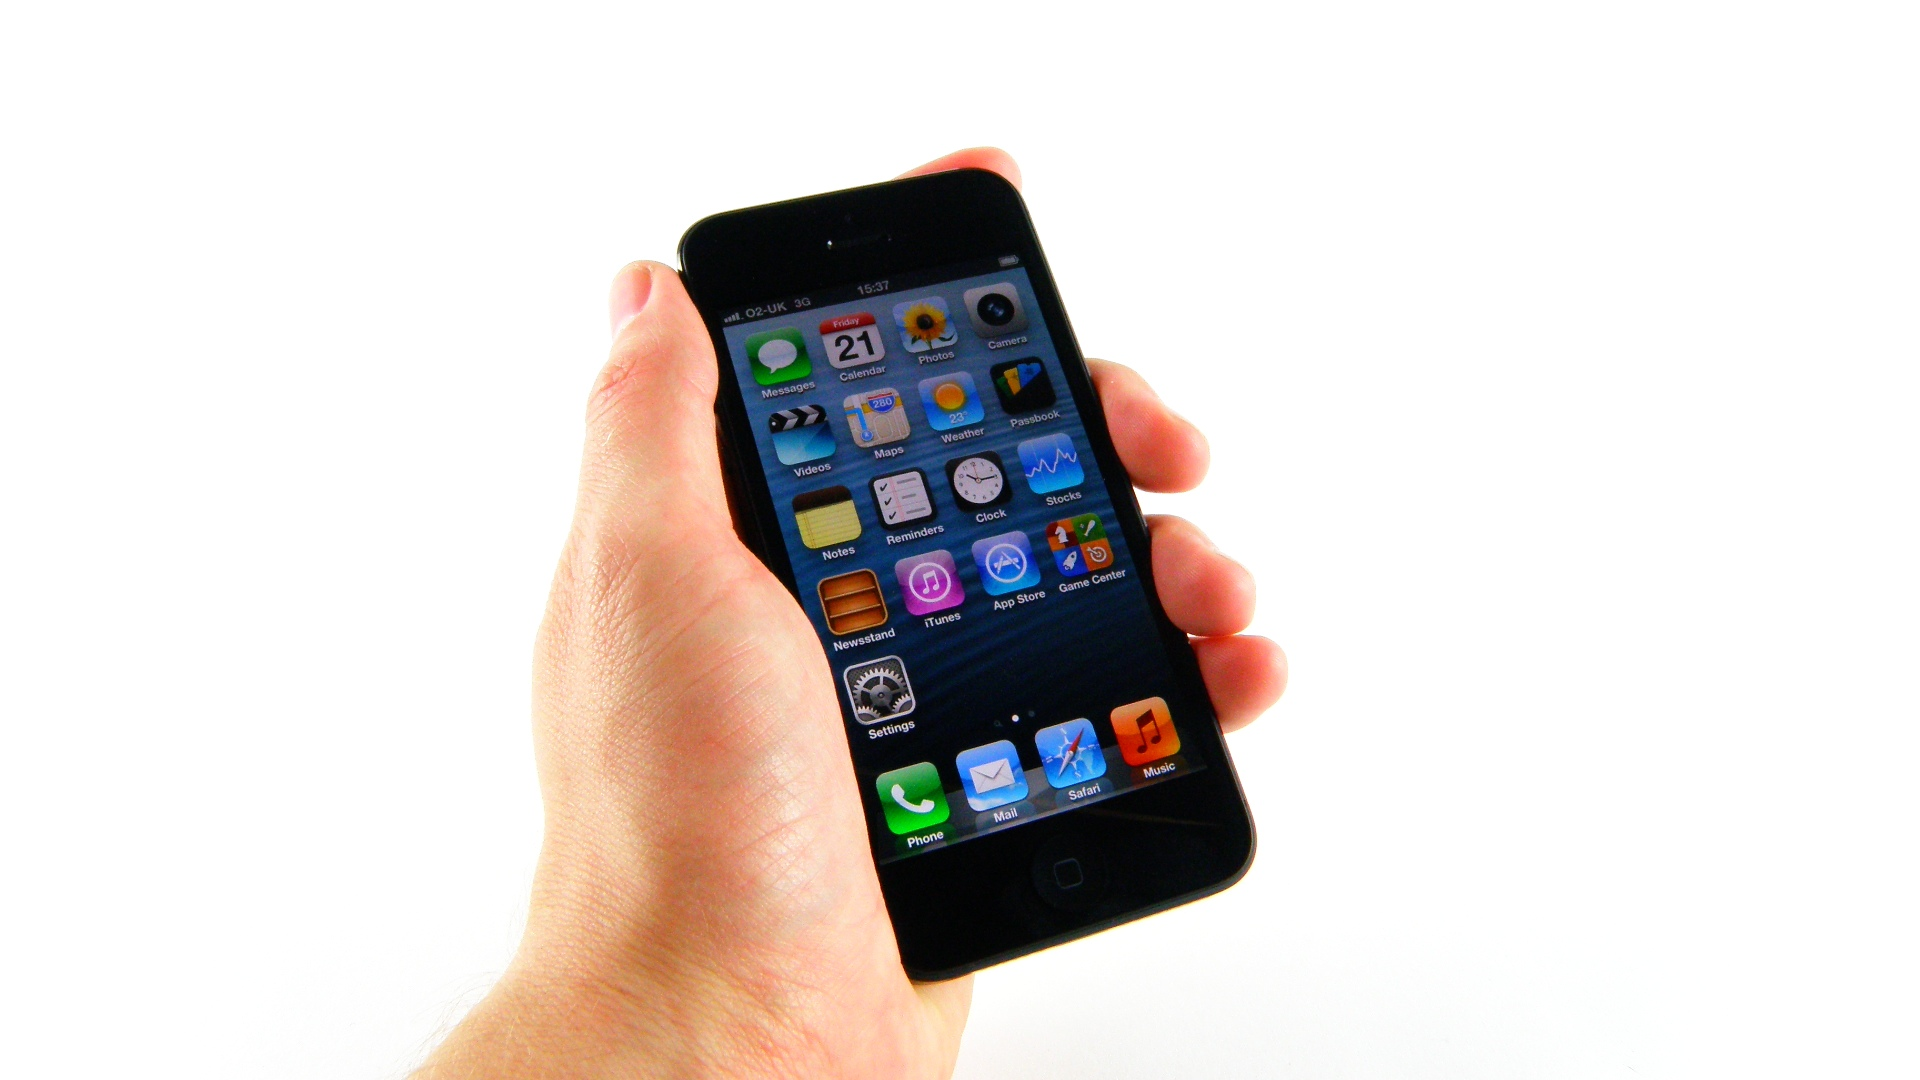smartphone: (676, 165, 1261, 984)
